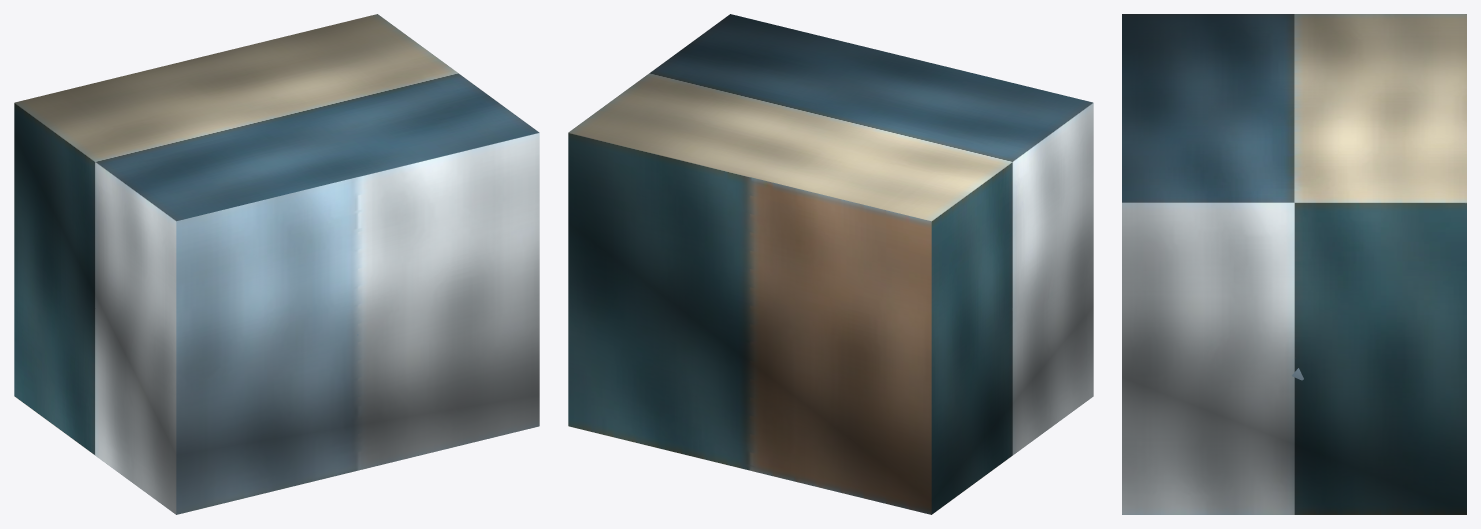
File: rock_snow_a.glb
3 views of the same model, side by side, from view 1: azimuth 30°, elevation 25°; view 2: azimuth 150°, elevation 25°; view 3: azimuth 270°, elevation 25° (orthographic). The views are drawn at different scales.
Parts seen in each view (by area): view 1: col; view 2: col; view 3: col.
Part boxes in pixels (x1,y1,x2,y2): col: [14, 14, 539, 514]; col: [568, 14, 1093, 514]; col: [1122, 14, 1466, 514].
Size of the model in its own units: 2.16 by 1.67 by 1.67.
1 material, 1 textured.
